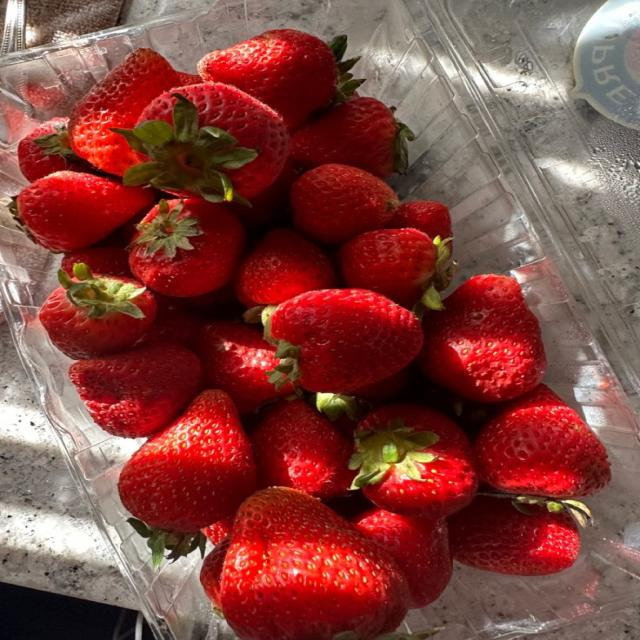strawberry: (218, 488, 407, 639), (119, 390, 255, 563), (117, 83, 289, 202), (418, 275, 546, 402), (267, 289, 422, 393), (476, 385, 610, 498), (350, 404, 478, 518), (198, 29, 338, 128), (69, 49, 179, 175), (69, 343, 202, 437), (129, 199, 245, 297), (11, 171, 153, 251), (39, 263, 156, 359), (448, 496, 579, 576), (251, 400, 354, 499), (351, 509, 453, 608), (291, 97, 413, 178), (340, 229, 453, 309), (199, 321, 293, 413), (290, 164, 399, 243), (235, 229, 336, 307), (315, 367, 412, 435), (227, 161, 297, 230), (18, 117, 86, 182), (139, 297, 205, 350), (167, 283, 246, 319), (388, 201, 452, 240), (200, 537, 230, 611), (61, 246, 132, 277), (352, 368, 411, 403), (326, 492, 375, 520), (202, 517, 233, 546), (177, 72, 202, 86)
